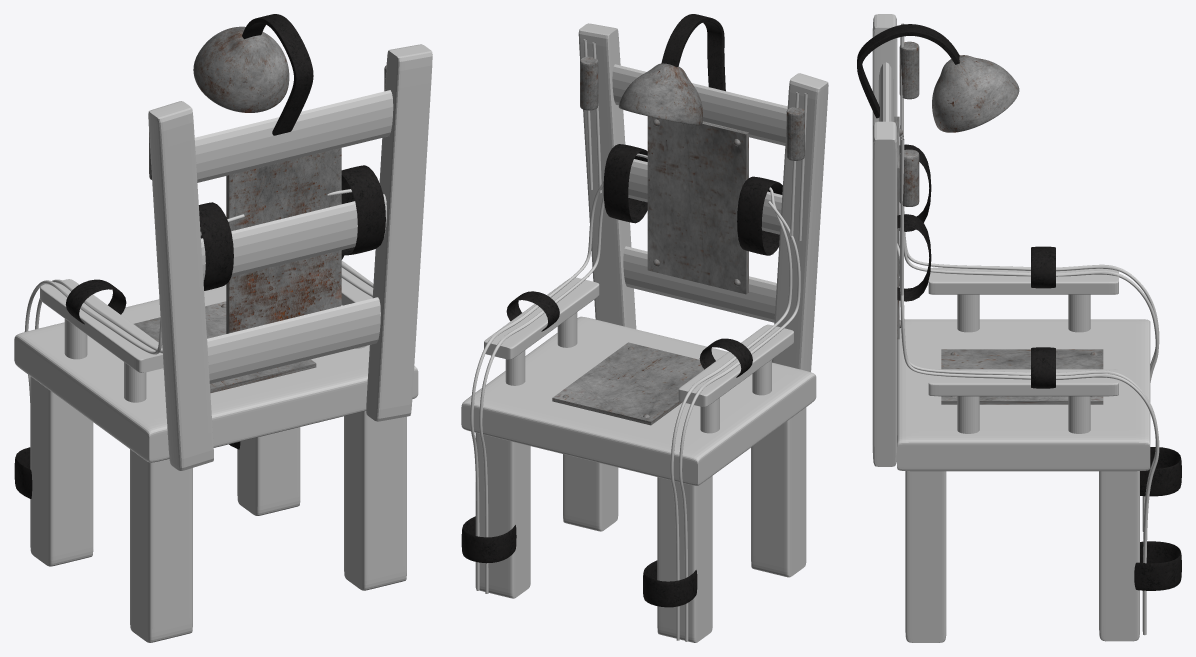
The model's file is 電気椅子.fbx.
The picture shows the model from 3 angles, left to right: view 1: azimuth 30°, elevation 25°; view 2: azimuth 150°, elevation 25°; view 3: azimuth 270°, elevation 25°; orthographic projection. The views are drawn at different scales.
Parts seen in each view (by area): view 1: 立方体.004, 立方体.001, 立方体.003, 立方体, 立方体.005, 円柱, 球, 立方体.002, 円柱.001, 円; view 2: 立方体.004, 立方体, 立方体.005, 立方体.001, 円柱, 立方体.003, 円, 立方体.002, 球, 円柱.001, 円柱.002; view 3: 立方体, 立方体.004, 立方体.002, 立方体.001, 円柱, 円, 球, 立方体.005, 円柱.002, 円柱.001, 立方体.003.
Boxes of the visible parts, x1,y1,x2,y2 form: 立方体.004: (30, 376, 406, 642); 立方体.001: (148, 44, 432, 470); 立方体.003: (194, 90, 393, 383); 立方体: (14, 284, 418, 462); 立方体.005: (134, 148, 341, 393); 円柱: (14, 165, 385, 498); 球: (193, 26, 289, 112); 立方体.002: (40, 260, 373, 402); 円柱.001: (242, 14, 313, 135); 円: (24, 189, 373, 402); 立方体.004: (475, 407, 806, 642); 立方体: (461, 316, 816, 485); 立方体.005: (552, 116, 748, 425); 立方体.001: (578, 23, 828, 371); 円柱: (461, 144, 782, 607); 立方体.003: (612, 64, 787, 322); 円: (470, 39, 807, 641); 立方体.002: (484, 277, 793, 433); 球: (618, 63, 702, 125); 円柱.001: (661, 14, 725, 91); 円柱.002: (580, 56, 804, 160); 立方体: (897, 319, 1150, 471); 立方体.004: (905, 471, 1139, 642); 立方体.002: (928, 267, 1118, 433); 立方体.001: (872, 14, 897, 466); 円柱: (897, 144, 1181, 590); 円: (897, 23, 1159, 635); 球: (932, 55, 1019, 132); 立方体.005: (894, 116, 1103, 404); 円柱.002: (899, 41, 919, 206); 円柱.001: (857, 24, 959, 118); 立方体.003: (878, 62, 893, 121).
Size of the model in its own units: 57.5 by 119 by 62.77.
